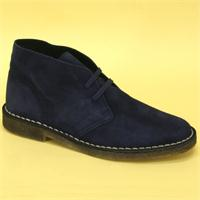shoe: (2, 38, 196, 160)
